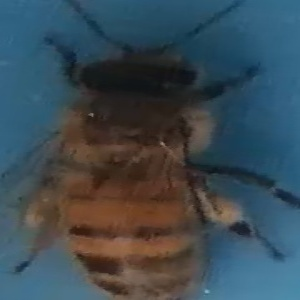bee: (12, 34, 280, 297)
